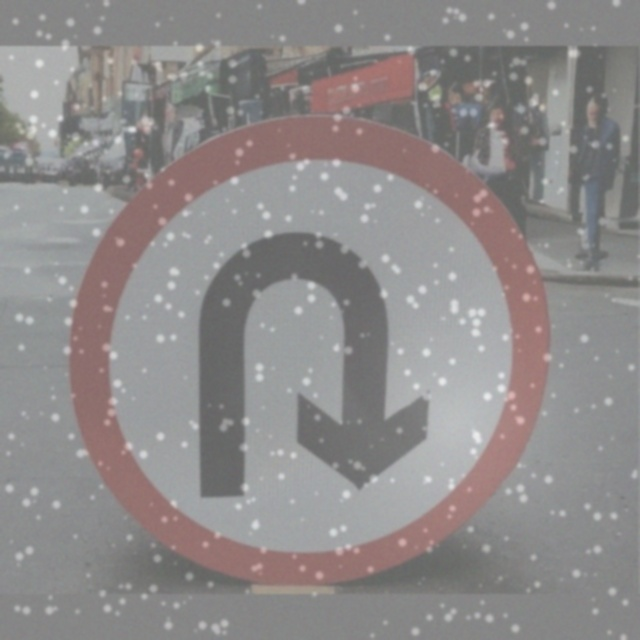U_Turn_Ahead: (126, 171, 520, 546)
